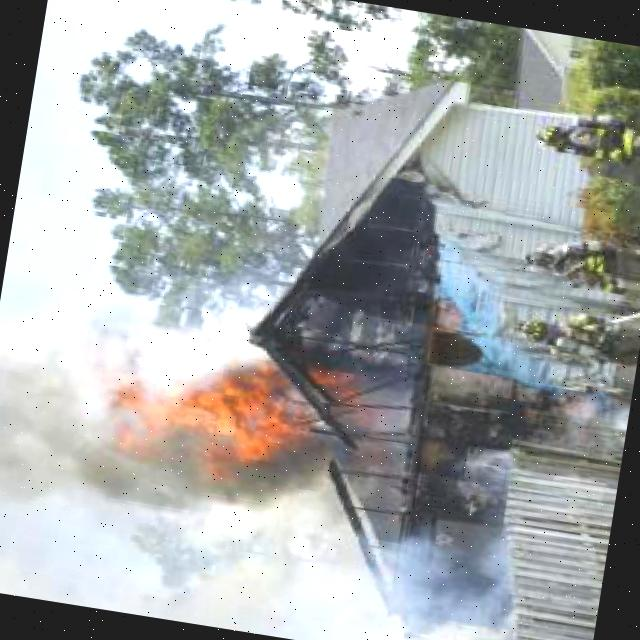fire: (135, 350, 306, 468)
